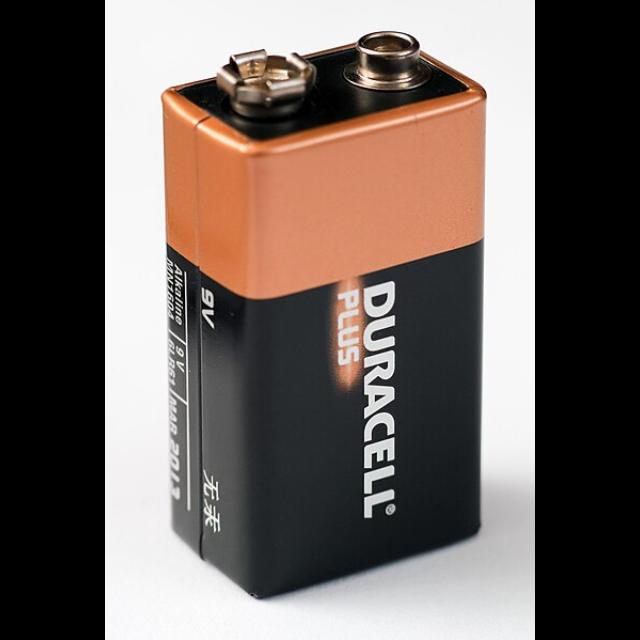Battery: (161, 31, 489, 602)
